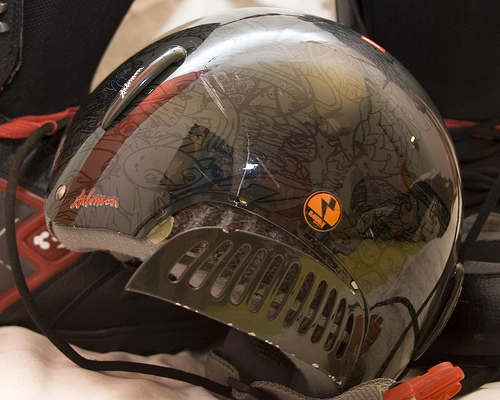helmet: (65, 29, 468, 363)
